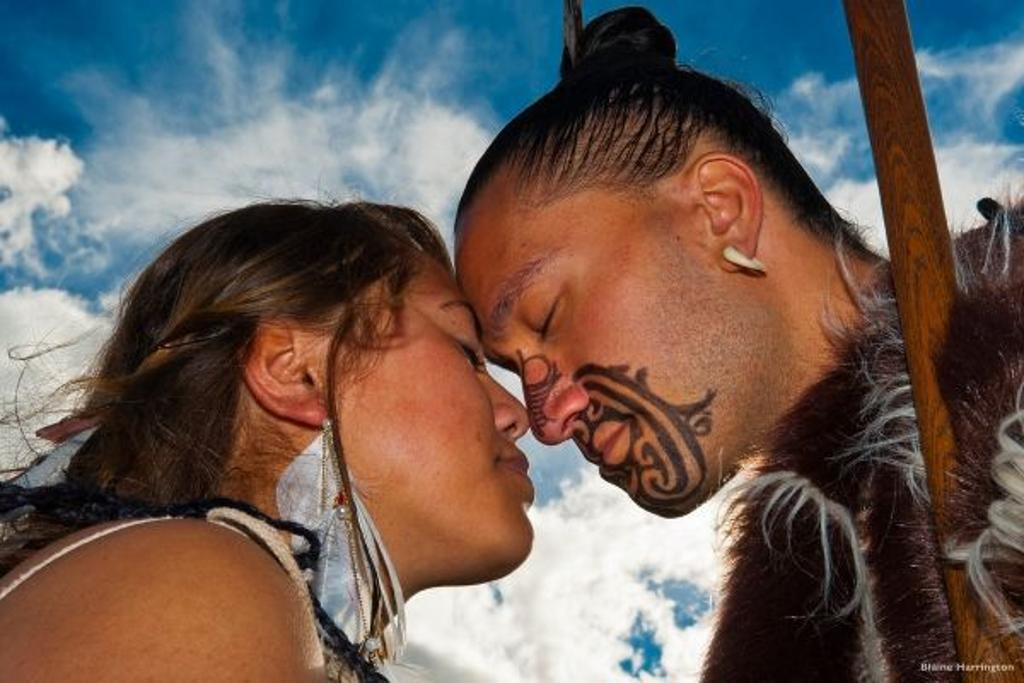face: (460, 184, 768, 514), (318, 212, 534, 566)
